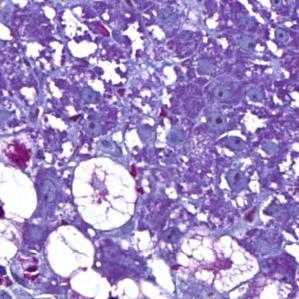ballooning: (174, 232, 261, 294), (70, 155, 138, 232), (44, 222, 97, 281)
